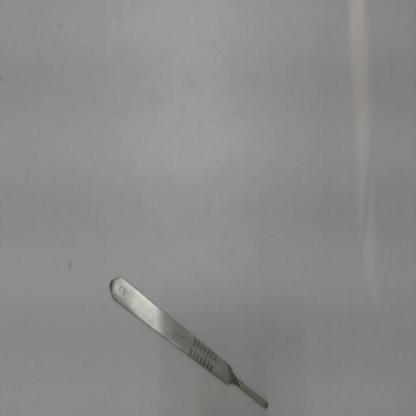No.4 BP Handle: (107, 261, 273, 413)
